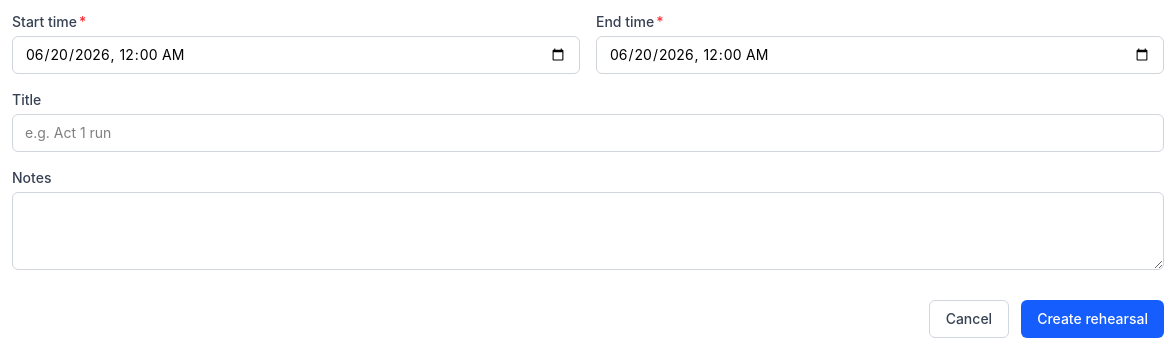
Scenario: RehearsalForm — default block length › does not apply the block length until start time loses focus
The image size is (1176, 355).
Step 1. Replace the text in the field below "End time" with "2026-06-20T23:00" → (880, 55), box [596,36,1164,74]
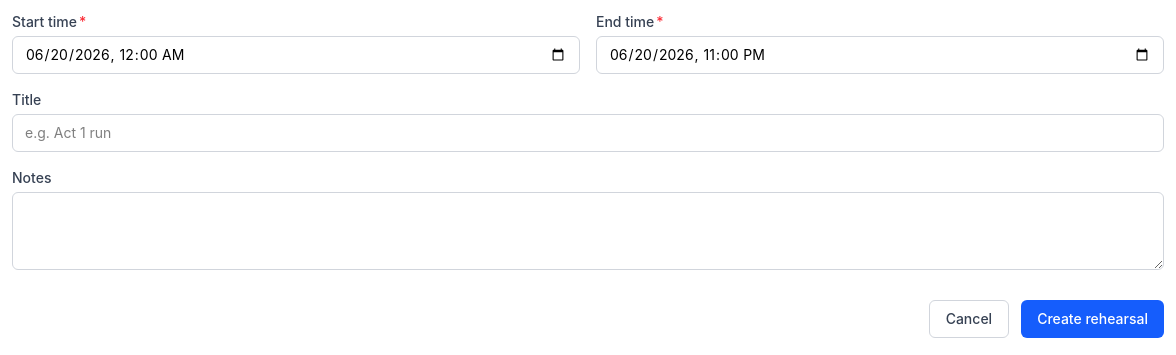
Step 2. Replace the text in the field below "Start time" with "2026-06-20T18:00" → (296, 55), box [12,36,580,74]
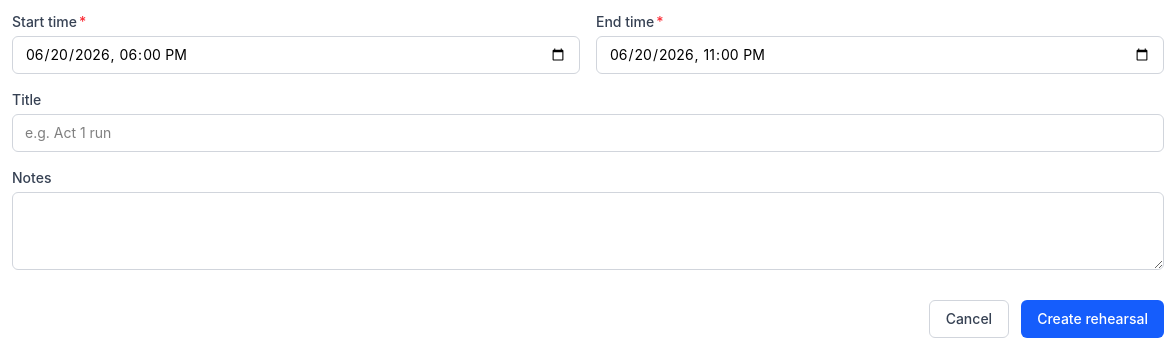
Step 3. Leave the field below "Start time", box [12,36,580,74]
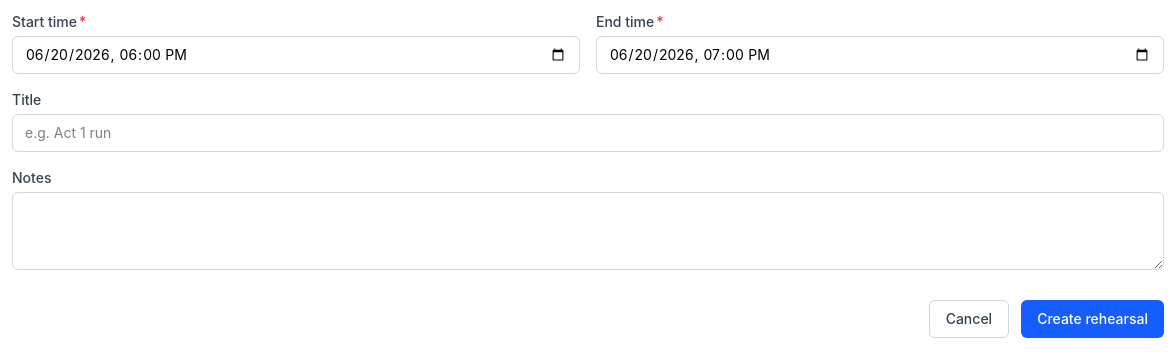
expect the field below "End time" holds "2026-06-20T19:00": met, box [596,36,1164,74]
